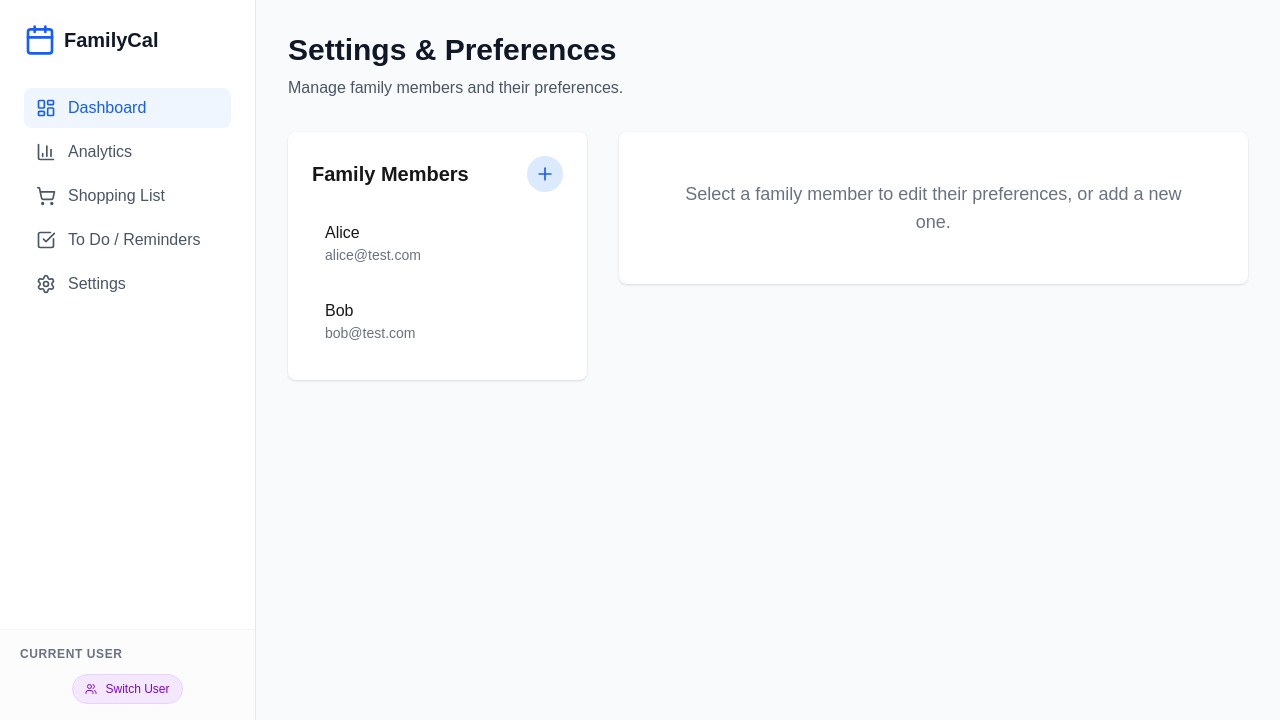
SettingsPage › shows invite form when + button is clicked
Expected: the heading "Family Members" is shown, x1=312 y1=160 x2=469 y2=188
# The + button is next to "Family Members" heading, inside the same container
Click the 1st button at point(545, 174), box x1=527 y1=156 x2=563 y2=192
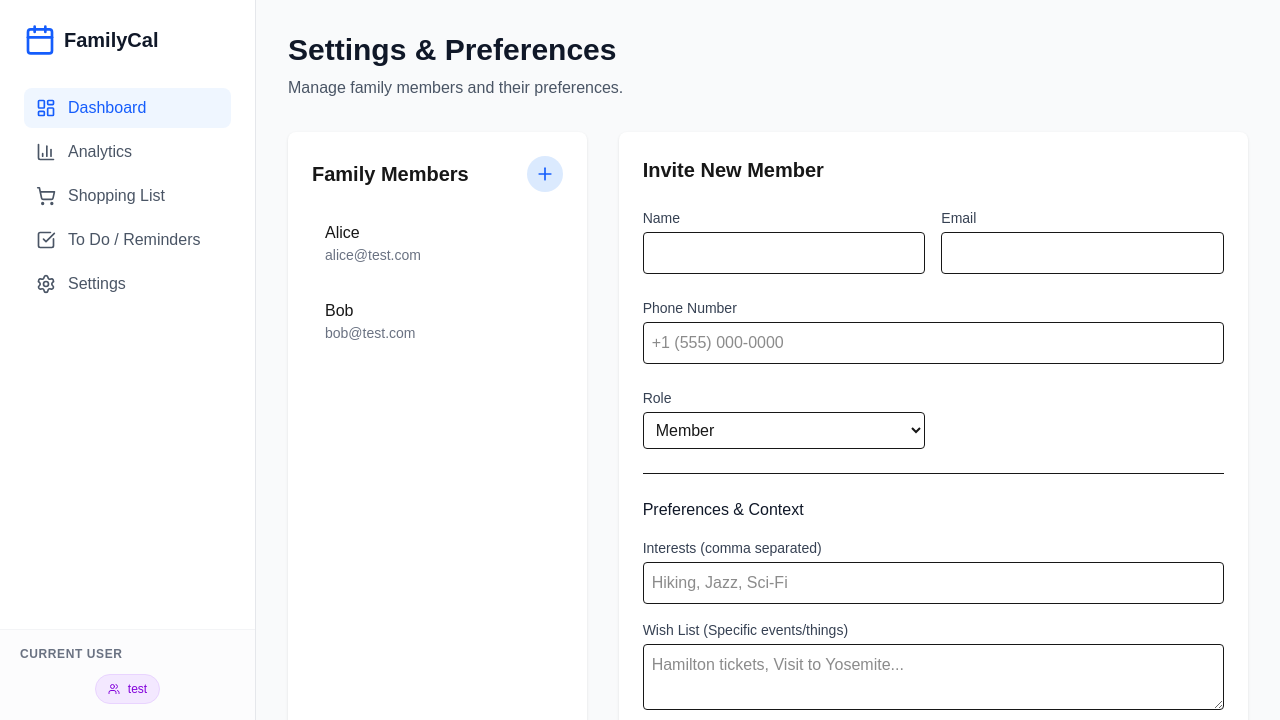
Expected: the heading "Invite New Member" is shown, x1=643 y1=159 x2=824 y2=181
